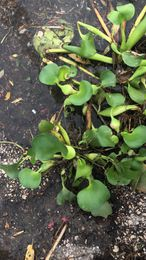water_hyacinth: (22, 1, 146, 223)
